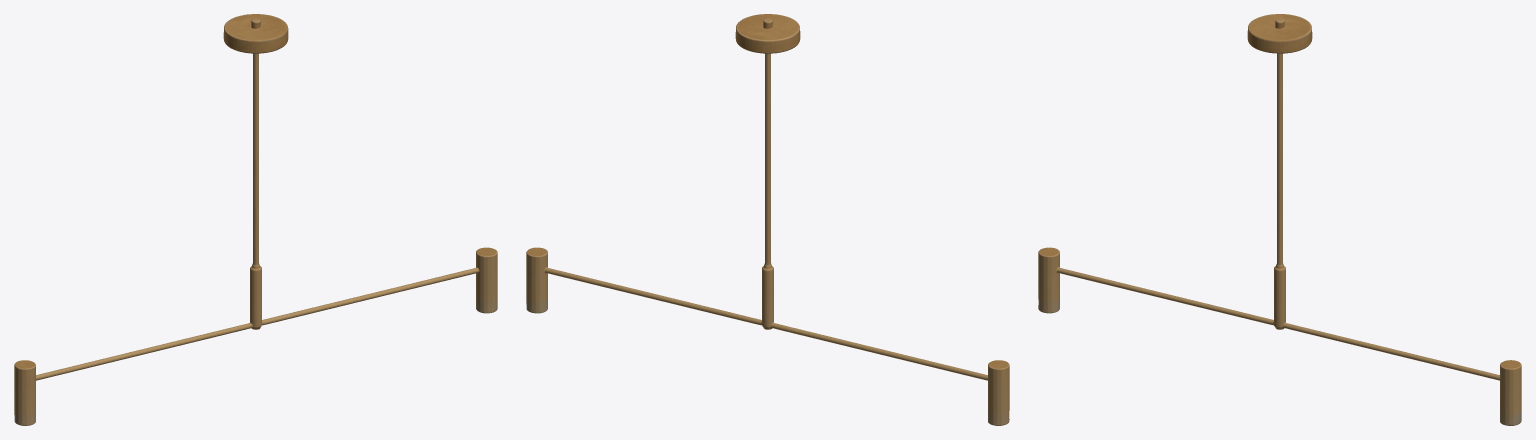
File: pendant-brass-linear.glb
3 renders of one model, left to right at view 1: azimuth 30°, elevation 25°; view 2: azimuth 150°, elevation 25°; view 3: azimuth 330°, elevation 25°, orthographic.
Parts seen in each view (by area): view 1: world; view 2: world; view 3: world.
Part boxes in pixels (bbox=[...]): world: bbox=[14, 14, 497, 425]; world: bbox=[526, 14, 1009, 425]; world: bbox=[1038, 14, 1521, 425].
Size of the model in its own units: 1 by 0.6888 by 0.1164.
Materials: 1 (1 with a texture image).
